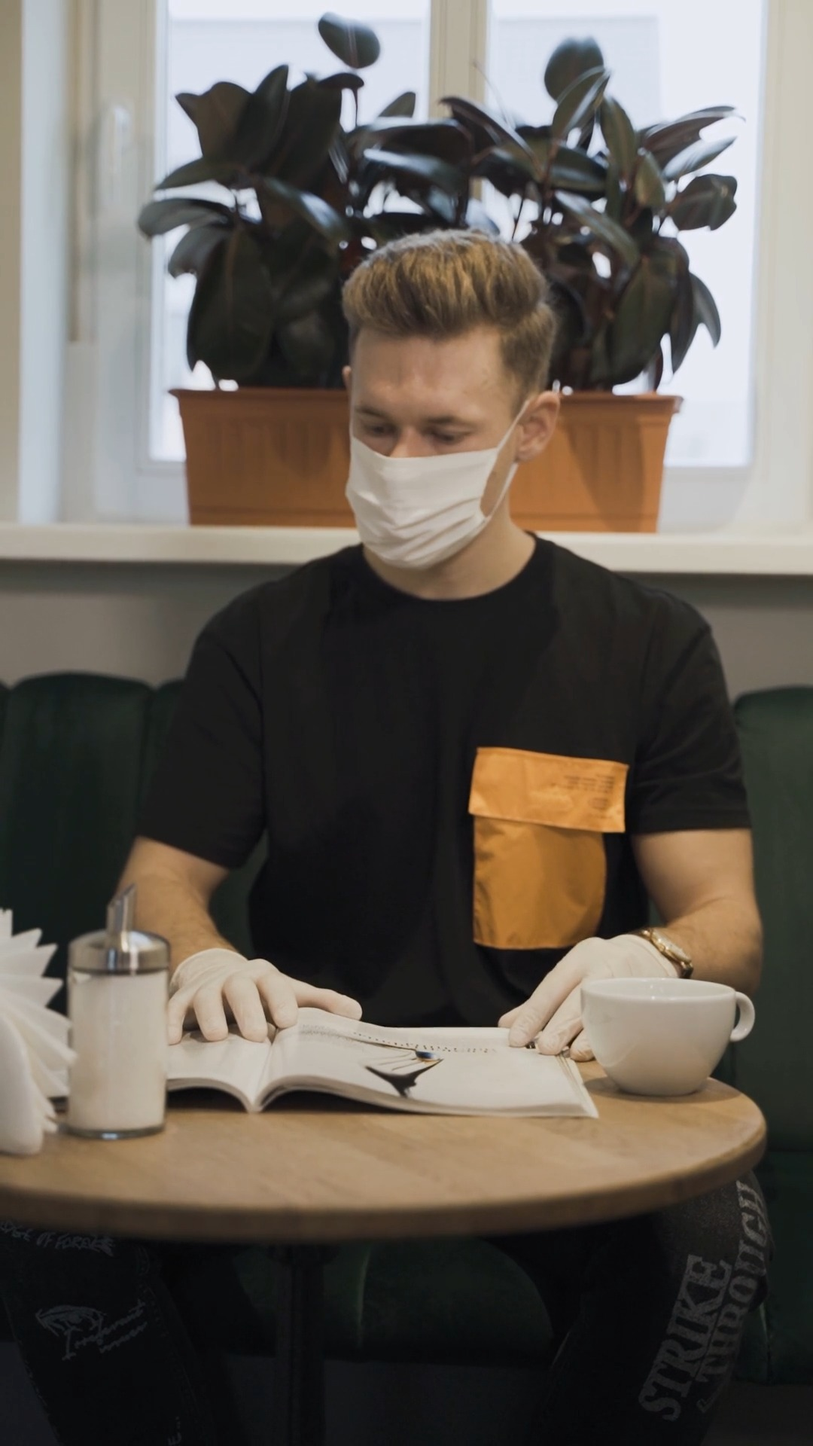gloves: (168, 931, 367, 1047), (504, 914, 659, 1052)
